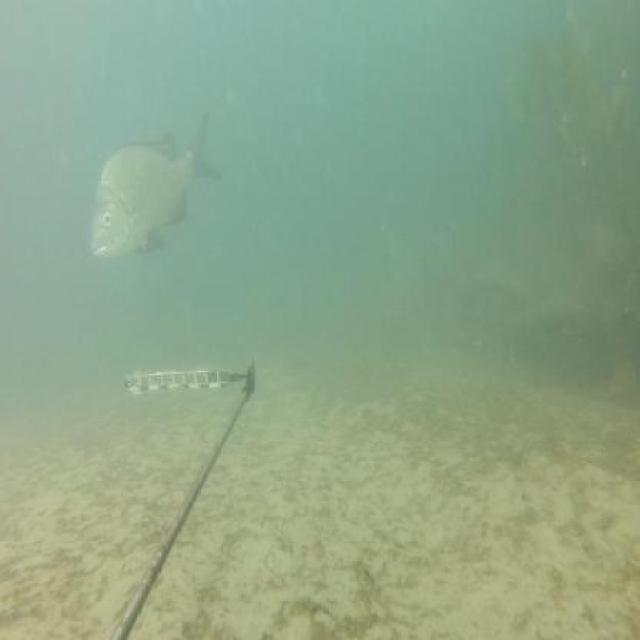acanthopagrus_palmaris: (88, 109, 223, 268)
